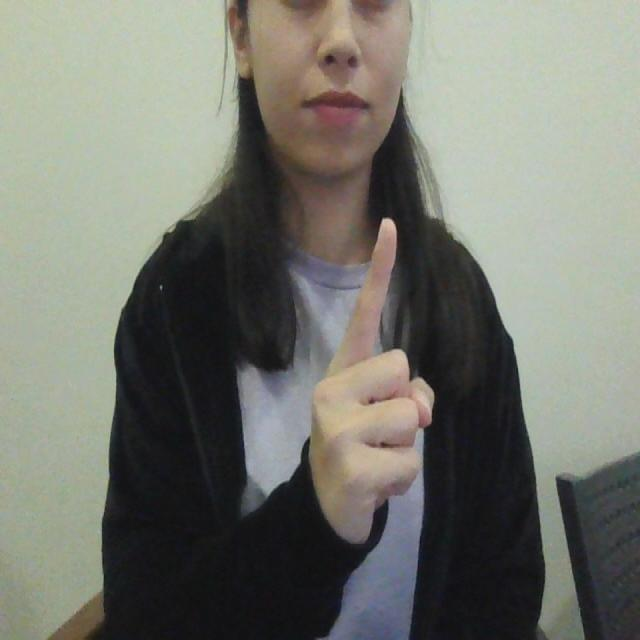Hayir: (304, 208, 443, 534)
